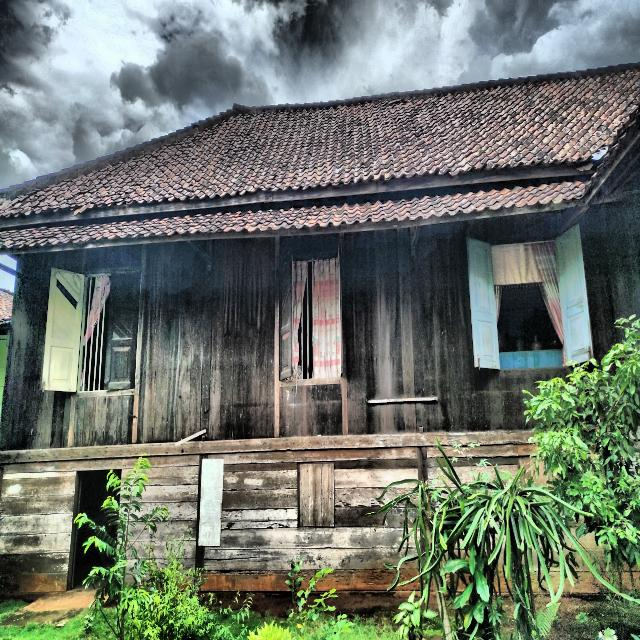door: (66, 469, 122, 591)
roof: (0, 63, 639, 252)
wall: (0, 163, 640, 595)
window: (467, 225, 593, 369), (41, 267, 141, 391), (279, 257, 342, 381)
